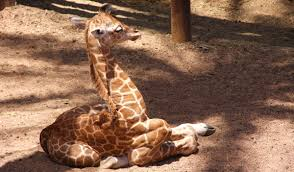Jirafa: (67, 2, 177, 118)
